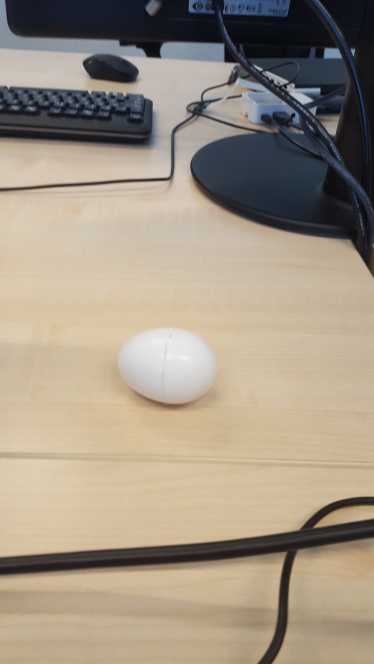egg: (116, 325, 218, 411)
